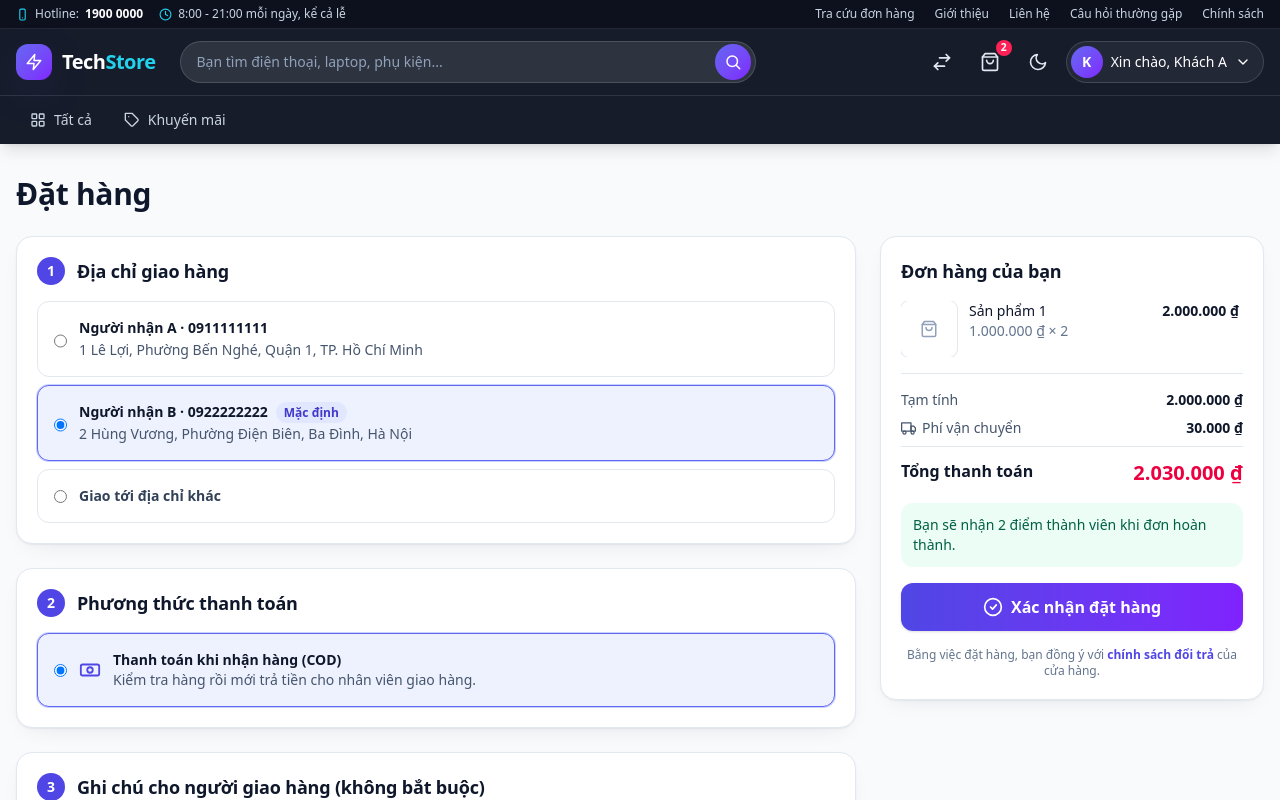
Test case: Trang đặt hàng - xác nhận › đặt thành công: chuyển tới trang đơn hàng kèm khung thành công và mã đơn (AC3)
Expected: the heading "Đặt hàng" is shown, [16,173,151,214]
Click the button "Xác nhận đặt hàng": [1072, 607] box [901,583,1243,631]
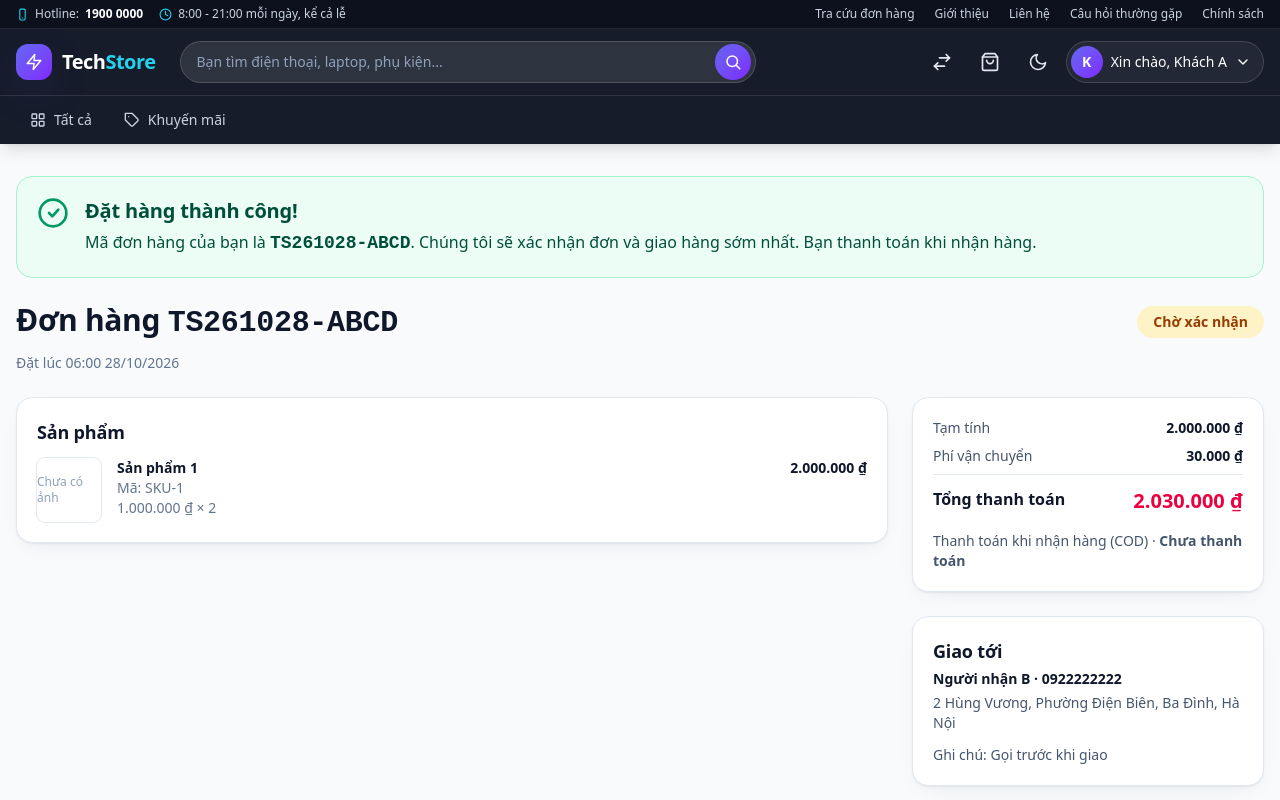
Expected: the heading "Đặt hàng thành công!" is shown, [85,197,298,224]
Expected: the text "TS261028-ABCD" next to "Mã đơn hàng của bạn là" is shown, [270,233,410,253]
Expected: the heading "Đơn hàng TS261028-ABCD" is shown, [16,302,398,341]
